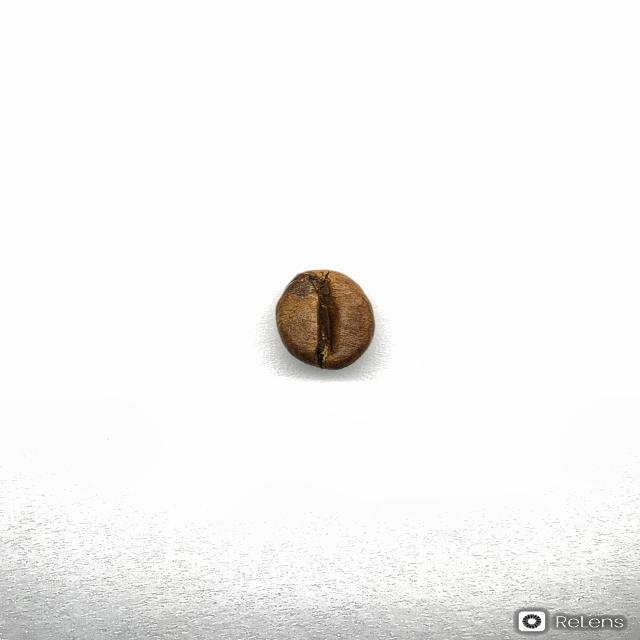Scorched: (273, 268, 377, 371)
